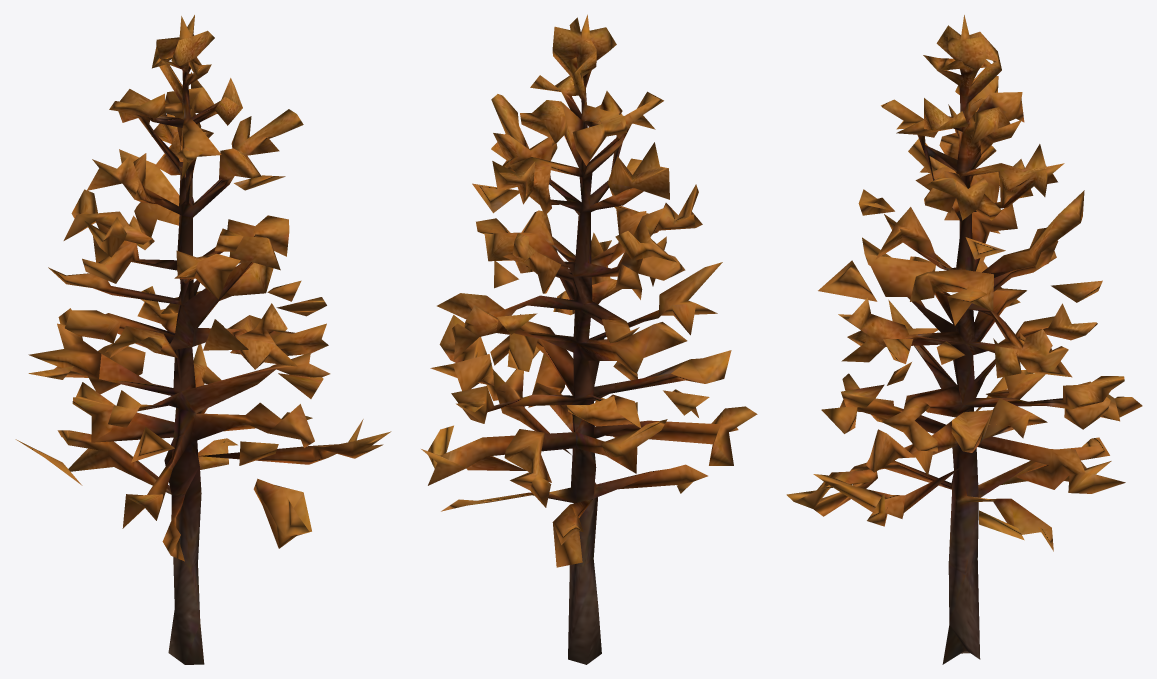
Rendered from larice.glb.
3 views of the same model, side by side, from view 1: azimuth 30°, elevation 25°; view 2: azimuth 150°, elevation 25°; view 3: azimuth 270°, elevation 25° (orthographic).
Parts seen in each view (by area): view 1: tripo_node_1d78a806-b60c-490a-88dc-1f034ac51ef0; view 2: tripo_node_1d78a806-b60c-490a-88dc-1f034ac51ef0; view 3: tripo_node_1d78a806-b60c-490a-88dc-1f034ac51ef0.
Boxes of the visible parts, x1,y1,x2,y2 form: tripo_node_1d78a806-b60c-490a-88dc-1f034ac51ef0: (15,15,391,664); tripo_node_1d78a806-b60c-490a-88dc-1f034ac51ef0: (421,14,757,664); tripo_node_1d78a806-b60c-490a-88dc-1f034ac51ef0: (786,15,1142,664).
Bounding box in the file's own units: 0.4738 × 1 × 0.5014.
Materials: 1 (1 with a texture image).
